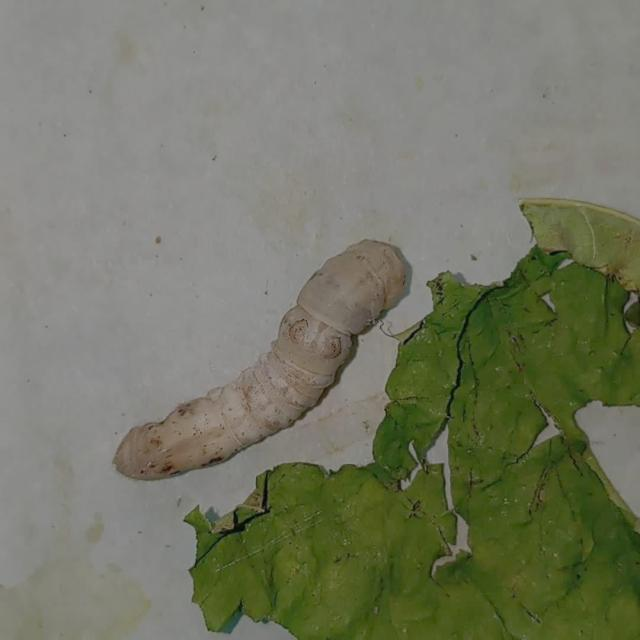Grasserie: (107, 224, 426, 507)
